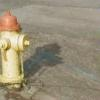Hydrant: (2, 9, 36, 95)
